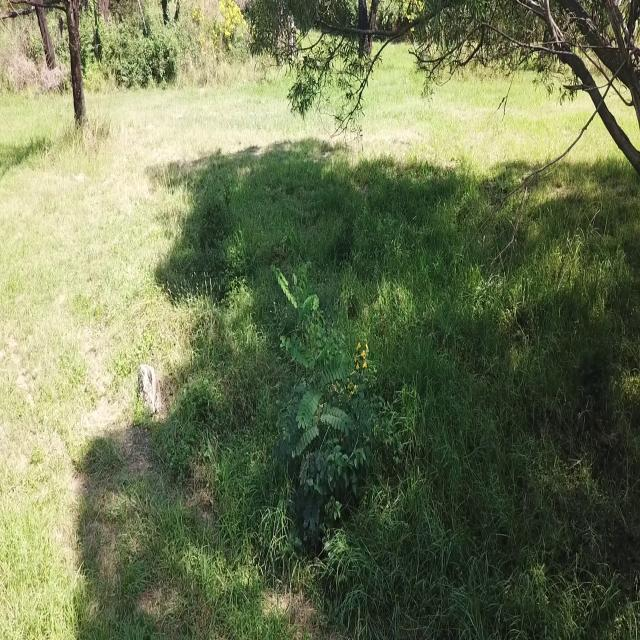Mysore-Thorn-Weed: (268, 243, 357, 530)
